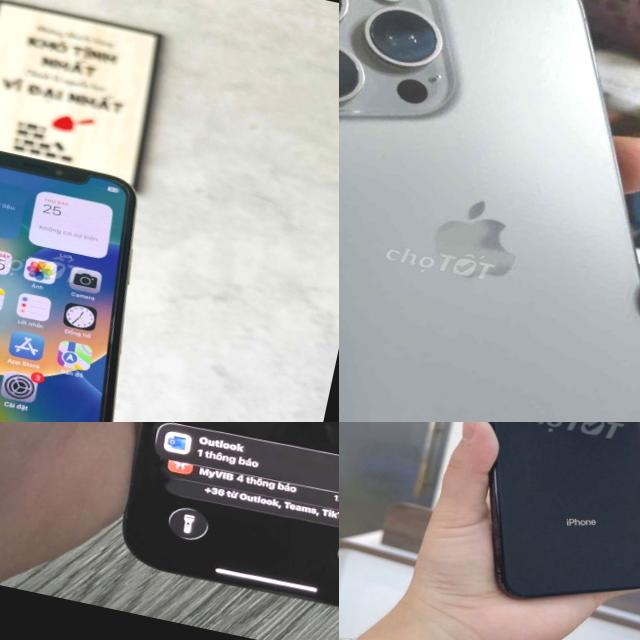scratch: (339, 0, 458, 131)
